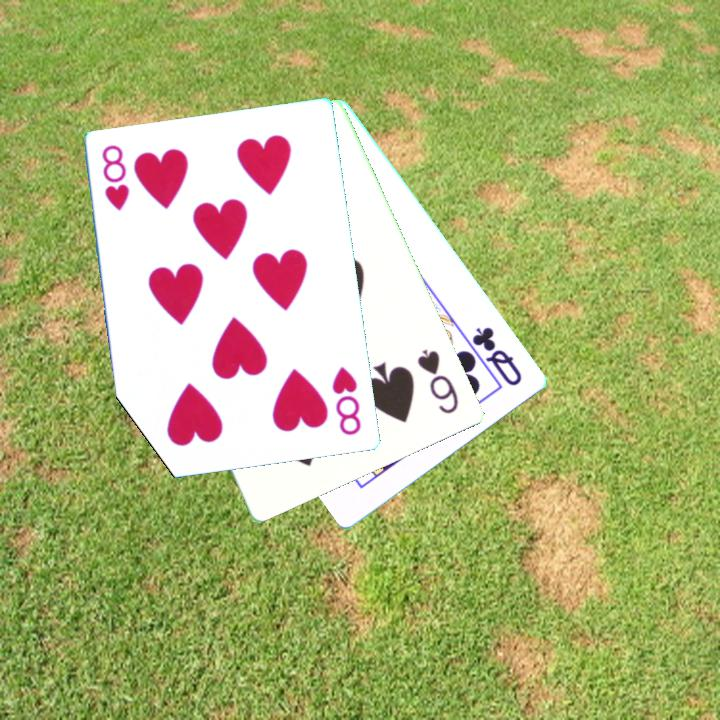6s: (414, 346, 462, 418)
8h: (329, 363, 365, 439), (99, 142, 132, 214)
Qc: (469, 323, 526, 389)
